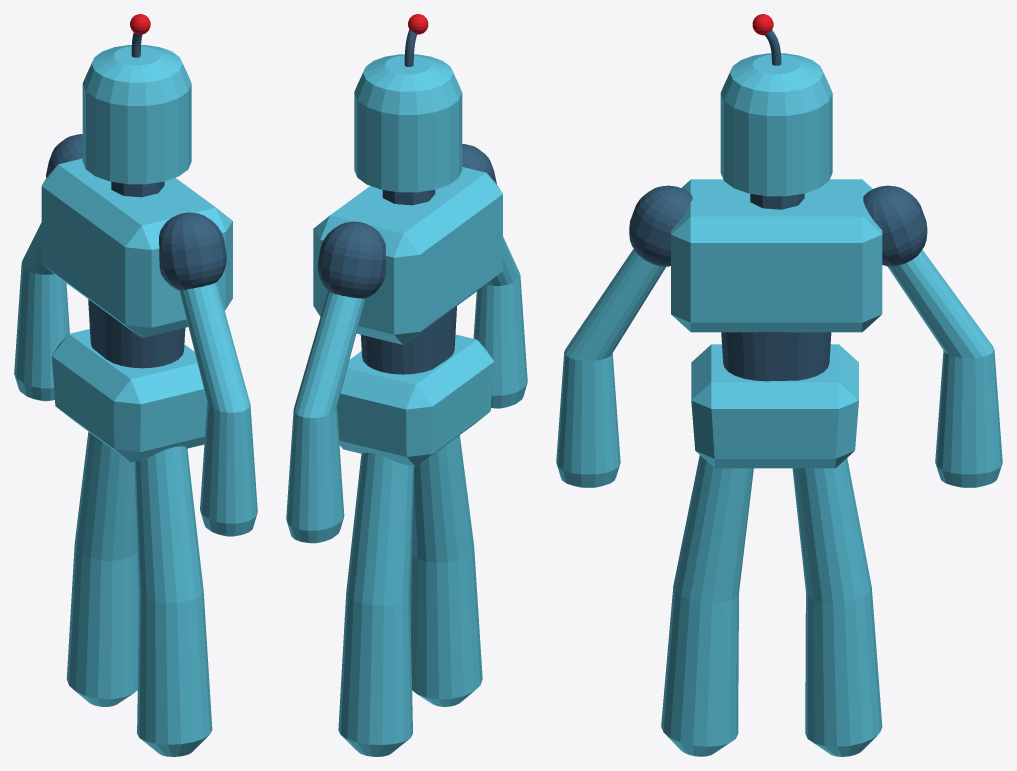
File: robot.fbx
3 renders of one model, left to right at view 1: azimuth 30°, elevation 25°; view 2: azimuth 150°, elevation 25°; view 3: azimuth 270°, elevation 25°, orthographic. The views are drawn at different scales.
Visible parts, largest first — view 1: Cylinder.005, Cube, Cylinder.006, Cylinder.002, Cube.001, Cylinder.004, Cylinder.003, Sphere, Cylinder, Sphere.001, Cylinder.001; view 2: Cylinder.006, Cube, Cylinder.005, Cylinder.002, Cube.001, Cylinder.003, Cylinder.004, Sphere.001, Cylinder, Sphere, Cylinder.001; view 3: Cube, Cylinder.005, Cylinder.006, Cube.001, Cylinder.002, Cylinder.003, Cylinder.004, Cylinder, Sphere.001, Sphere.
Part boxes in pixels (x1,y1,x2,y2): Cylinder.005: [134, 446, 212, 756]; Cube: [41, 158, 232, 337]; Cylinder.006: [66, 431, 139, 706]; Cylinder.002: [82, 45, 191, 184]; Cube.001: [51, 329, 207, 462]; Cylinder.004: [179, 282, 257, 536]; Cylinder.003: [14, 222, 69, 401]; Sphere: [159, 212, 226, 290]; Cylinder: [88, 299, 185, 368]; Sphere.001: [46, 134, 82, 177]; Cylinder.001: [111, 181, 164, 197]; Cylinder.006: [338, 452, 414, 756]; Cube: [313, 167, 502, 344]; Cylinder.005: [410, 435, 482, 706]; Cylinder.002: [354, 54, 462, 192]; Cube.001: [337, 334, 494, 466]; Cylinder.003: [286, 291, 365, 543]; Cylinder.004: [473, 237, 527, 408]; Sphere.001: [318, 221, 385, 298]; Cylinder: [360, 306, 456, 374]; Sphere: [462, 144, 496, 183]; Cylinder.001: [382, 189, 435, 205]; Cube: [671, 179, 882, 332]; Cylinder.005: [661, 455, 753, 756]; Cylinder.006: [792, 458, 882, 756]; Cube.001: [691, 344, 858, 468]; Cylinder.002: [720, 53, 832, 196]; Cylinder.003: [887, 249, 1002, 487]; Cylinder.004: [556, 249, 665, 487]; Cylinder: [721, 331, 831, 381]; Sphere.001: [863, 185, 927, 266]; Sphere: [629, 185, 692, 266].
Size of the model in its own units: 205 by 1269 by 700.
